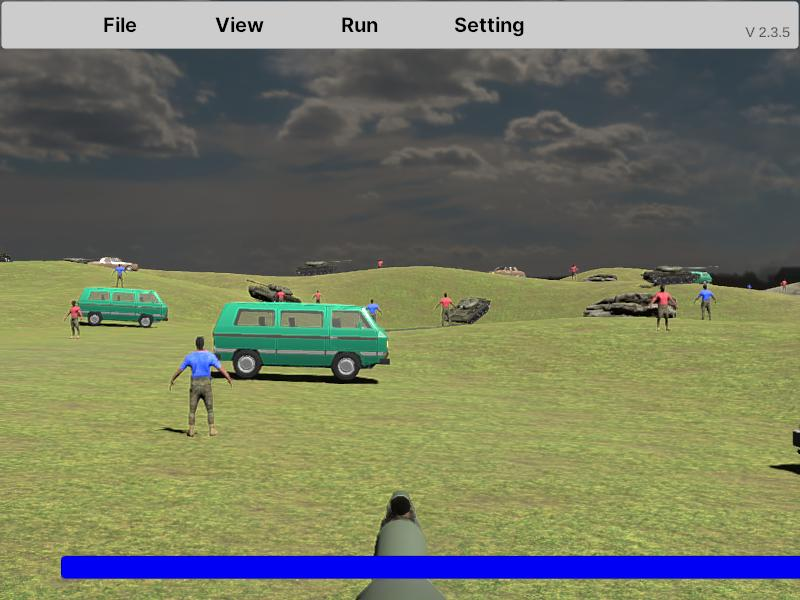Human: (170, 335, 232, 438), (652, 285, 676, 333), (64, 300, 82, 340)
car: (213, 301, 391, 383), (76, 287, 168, 328)
